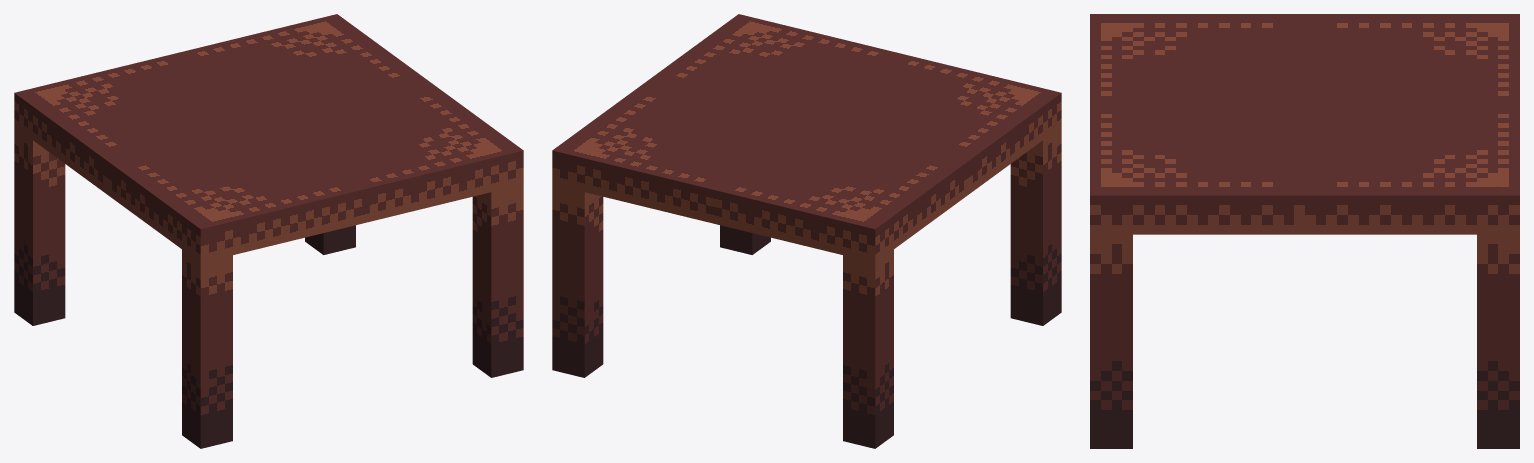
File: table.gltf
3 renders of one model, left to right at view 1: azimuth 30°, elevation 25°; view 2: azimuth 150°, elevation 25°; view 3: azimuth 270°, elevation 25°, orthographic. The views are drawn at different scales.
Visible parts, largest first — view 1: cuboid (×5); view 2: cuboid (×5); view 3: cuboid (×3).
Boxes of the visible parts, <box> form: cuboid (×5): <box>14,14,523,448</box>; cuboid (×5): <box>552,14,1061,448</box>; cuboid (×3): <box>1090,14,1519,448</box>.
Size of the model in its own units: 1.25 by 0.8125 by 1.25.
1 material, 1 textured.
